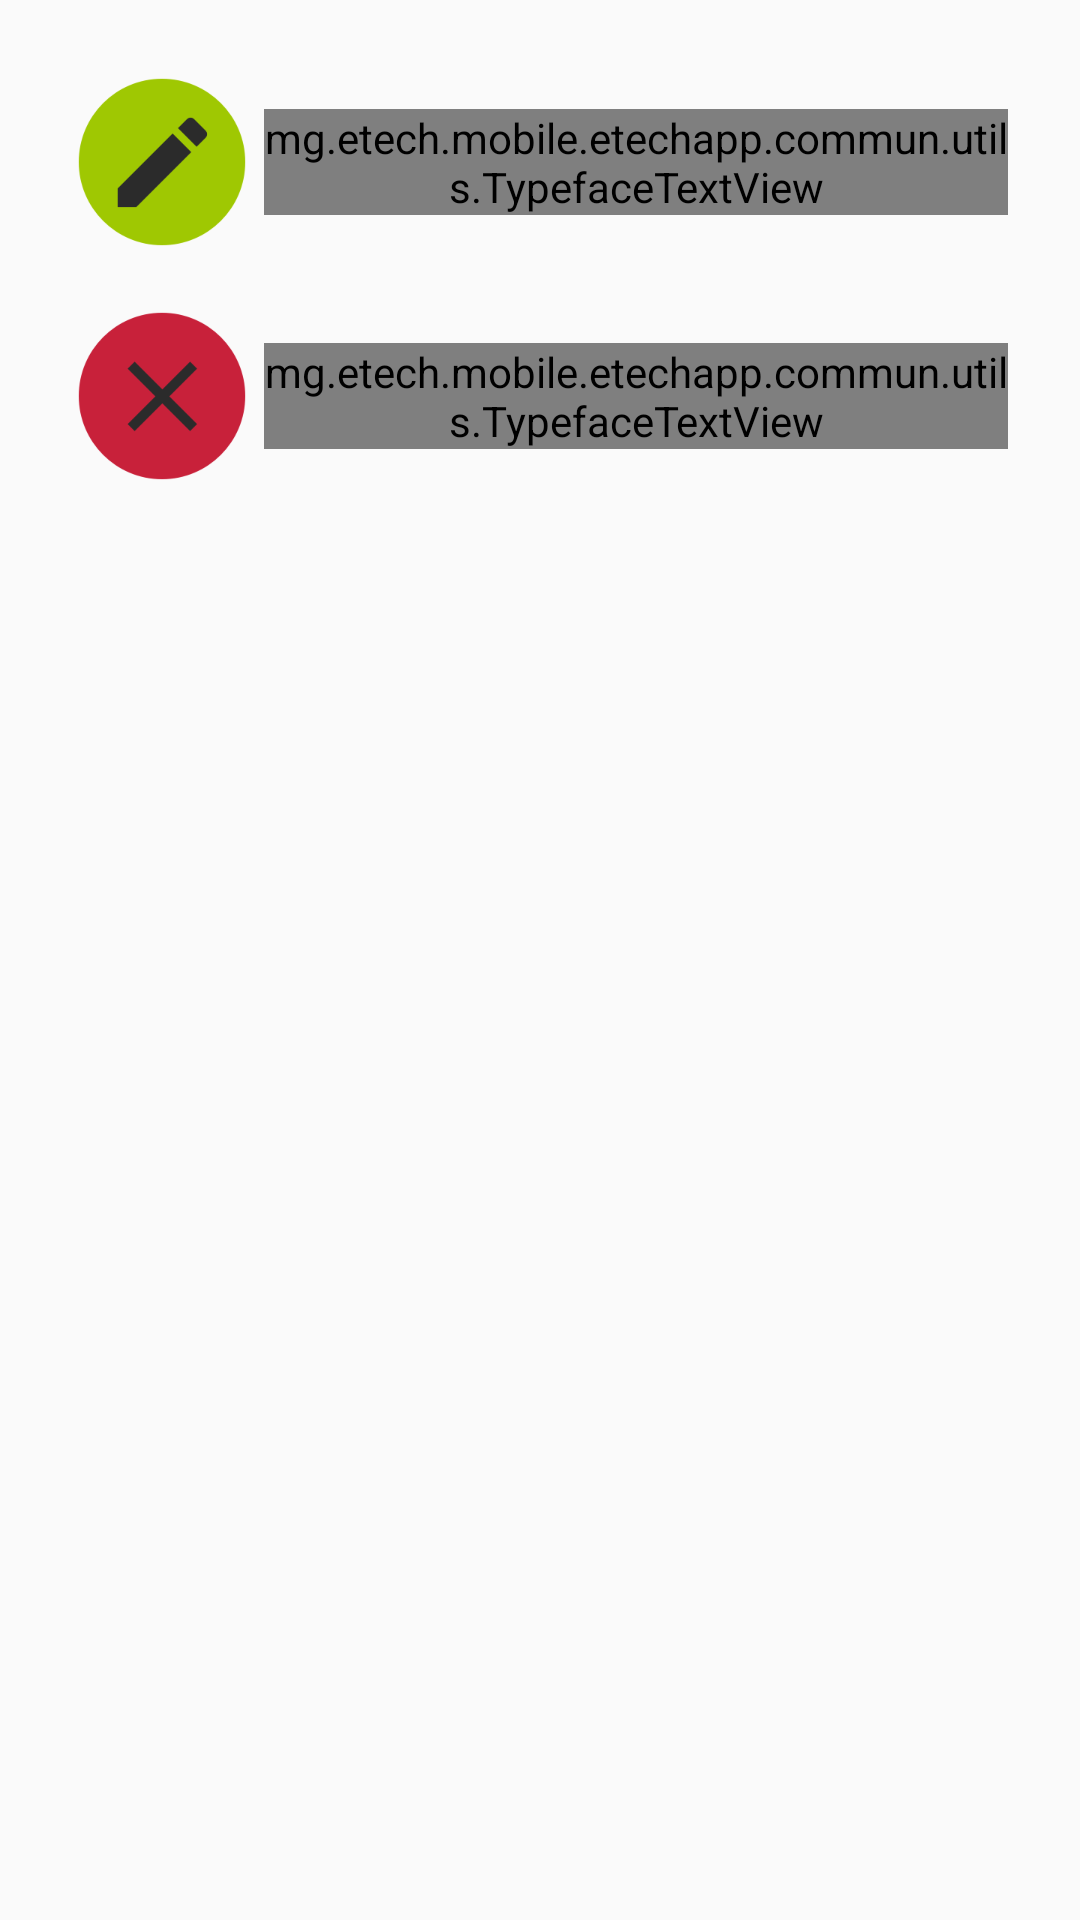

Icon bounding boxes for this 1080 × 1920 phone screenshot, format {"left": x1, "top": y1, "right": x2, "bottom": y2}:
modifier: {"left": 78, "top": 78, "right": 246, "bottom": 246}
supprimer: {"left": 78, "top": 312, "right": 246, "bottom": 480}
